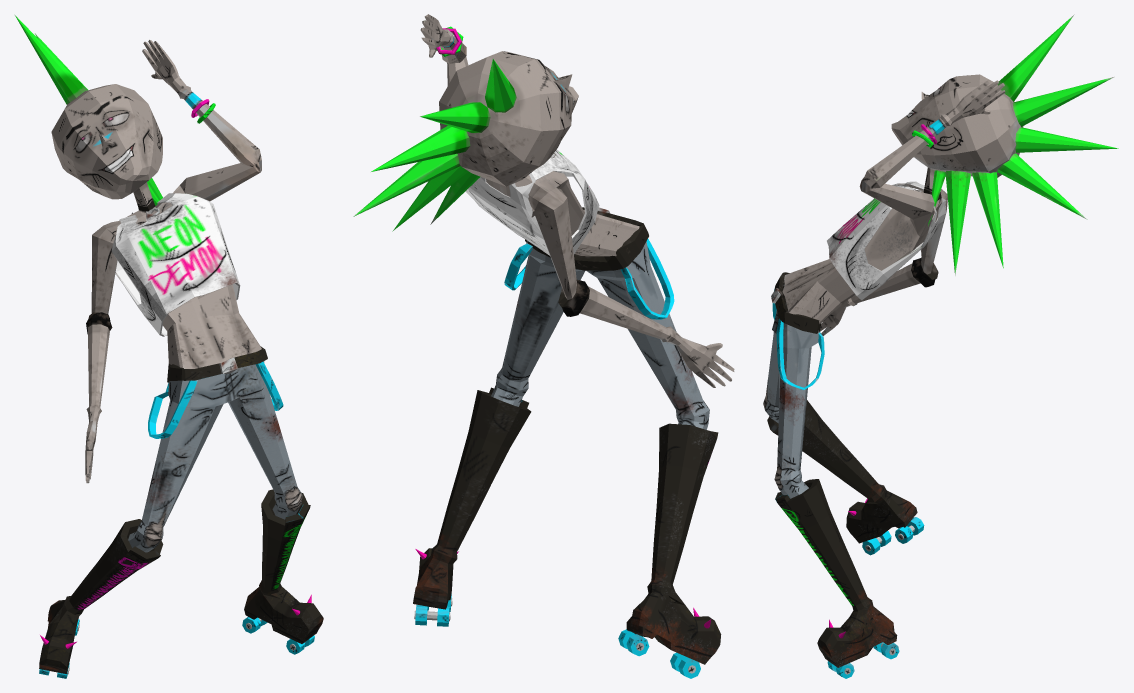
Rendered from punkAnimation_000122.obj.
3 views of the same model, side by side, from view 1: azimuth 30°, elevation 25°; view 2: azimuth 150°, elevation 25°; view 3: azimuth 270°, elevation 25° (orthographic). The views are drawn at different scales.
Parts seen in each view (by area): view 1: Cube.004_Cube.003; view 2: Cube.004_Cube.003; view 3: Cube.004_Cube.003.
Part boxes in pixels (bbox=[...]): Cube.004_Cube.003: bbox=[14, 14, 323, 678]; Cube.004_Cube.003: bbox=[353, 14, 734, 678]; Cube.004_Cube.003: bbox=[763, 14, 1118, 678].
Bounding box in the file's own units: 2.94 × 6.19 × 3.45.
